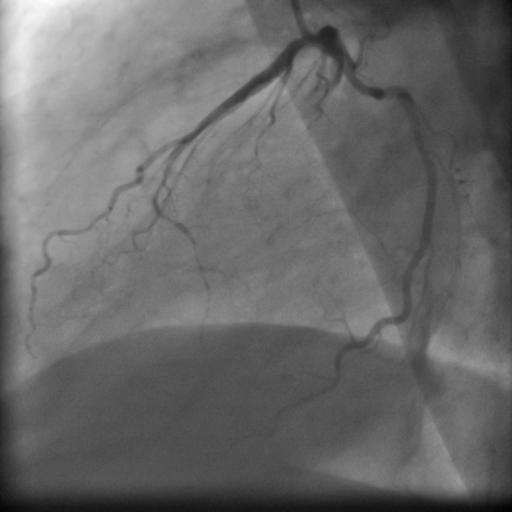Stenosis: (379, 77, 402, 110)
